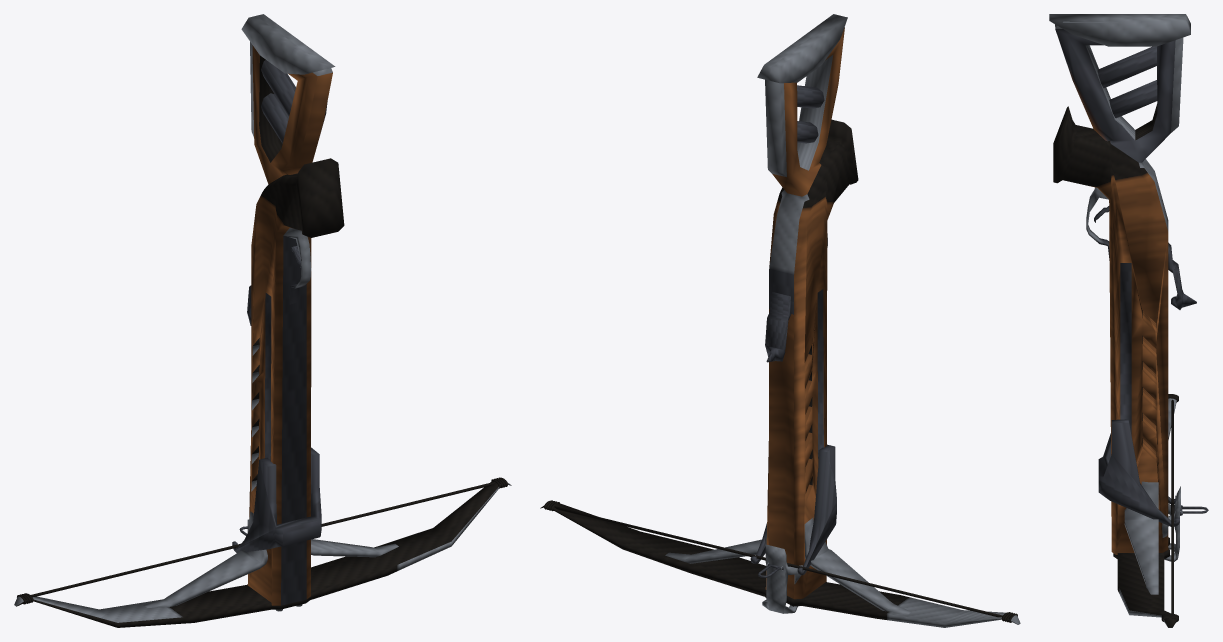
Rendered from ImprovedCrossBow.fbx.
3 views of the same model, side by side, from view 1: azimuth 30°, elevation 25°; view 2: azimuth 150°, elevation 25°; view 3: azimuth 270°, elevation 25° (orthographic). The views are drawn at different scales.
Parts seen in each view (by area): view 1: ImprovedCrossbow; view 2: ImprovedCrossbow; view 3: ImprovedCrossbow.
Boxes of the visible parts, box(x1,y1,x2,y2) form: ImprovedCrossbow: box(14, 14, 511, 627); ImprovedCrossbow: box(540, 14, 1020, 627); ImprovedCrossbow: box(1049, 14, 1208, 627).
Bounding box in the file's own units: 0.499 × 0.5471 × 0.1466.
